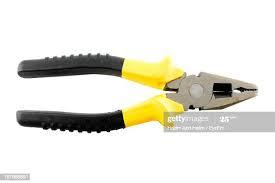pliers: (15, 51, 258, 132)
